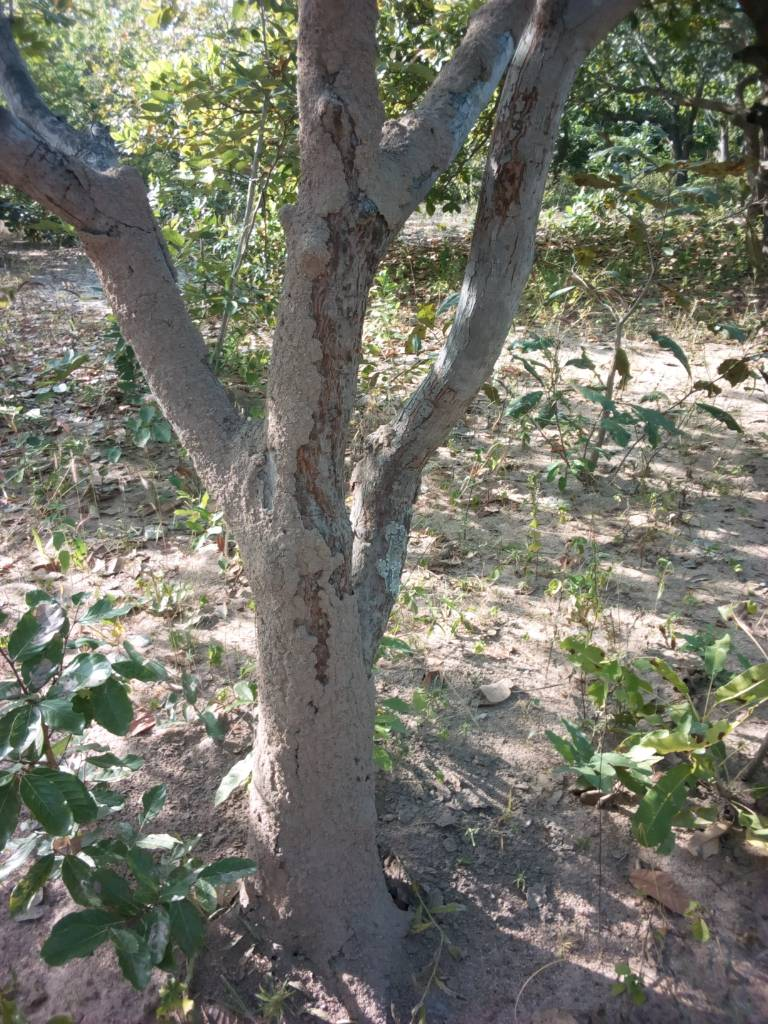Virose: (263, 16, 465, 467), (41, 119, 273, 503), (246, 538, 426, 1016)
